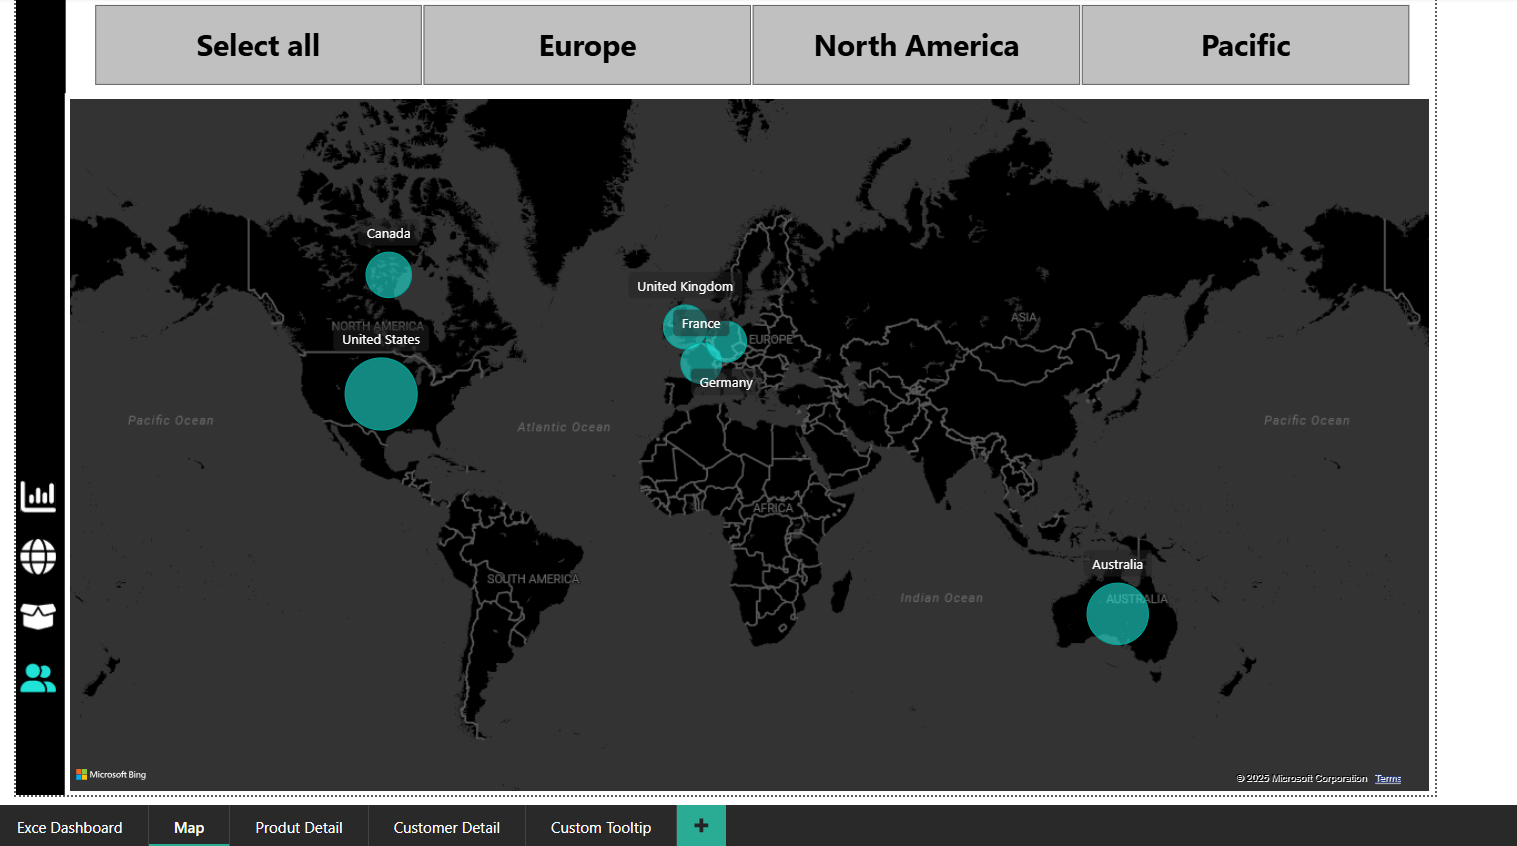

What the dashboard file says about the page in this screenshot:
{"tool":"powerbi","page":{"name":"Map","canvas":[1280,720],"ordinal":1},"visuals":[{"type":"shape","box":[0,0,45,720],"z":0},{"type":"map","fields":{"Category":["Territory Lookup.Country"],"Size":["Measure Table.Total Orders"]},"box":[44.5,87.2,1235.2,633.6],"z":1000},{"type":"slicer","fields":{"Values":["Territory Lookup.Continent"]},"box":[44.7,0,1235,86.6],"z":2000},{"type":"actionButton","box":[0,430,45,40],"z":3000},{"type":"actionButton","box":[0,484.6,45,40],"z":4000},{"type":"actionButton","box":[0,539.2,45,40],"z":5000},{"type":"actionButton","box":[0,593.8,45,40],"z":6000}]}

Visuals, with their boxes in screenshot pixels (x1, y1, x2, y2):
shape: bbox(12, 0, 62, 800)
map - Territory Lookup.Country x Measure Table.Total Orders: bbox(62, 93, 1441, 801)
slicer - Territory Lookup.Continent: bbox(62, 0, 1441, 93)
actionButton: bbox(12, 476, 62, 521)
actionButton: bbox(12, 537, 62, 582)
actionButton: bbox(12, 598, 62, 643)
actionButton: bbox(12, 659, 62, 704)
